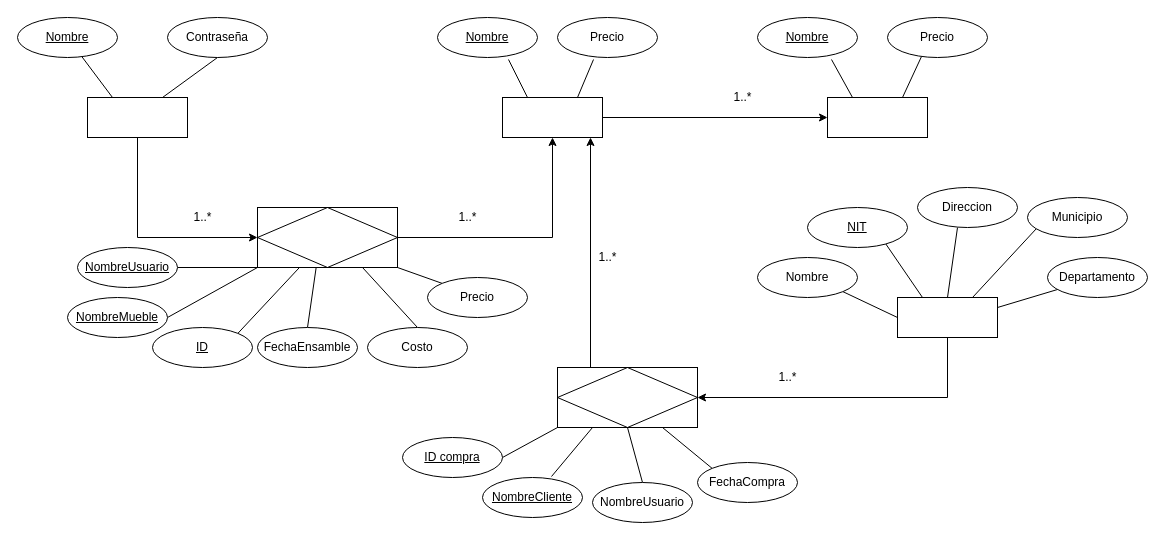
Some shapes in this 1165 by 540 pixel diagram are drawn without their labels. The shapes that lost their labels are listed below. From the top down, each one's centre as x and y in pixels, then its label:
At (137,117): "Usuario".
At (552,117): "Mueble".
At (877,117): "Pieza".
At (327,237): "Ensambla".
At (947,317): "Cliente".
At (627,397): "Compra".
